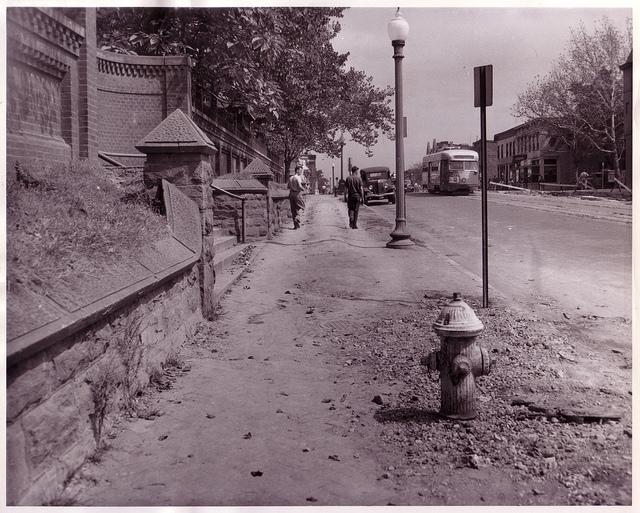bus: (422, 150, 479, 196)
car: (360, 167, 398, 204)
truck: (361, 166, 396, 203)
